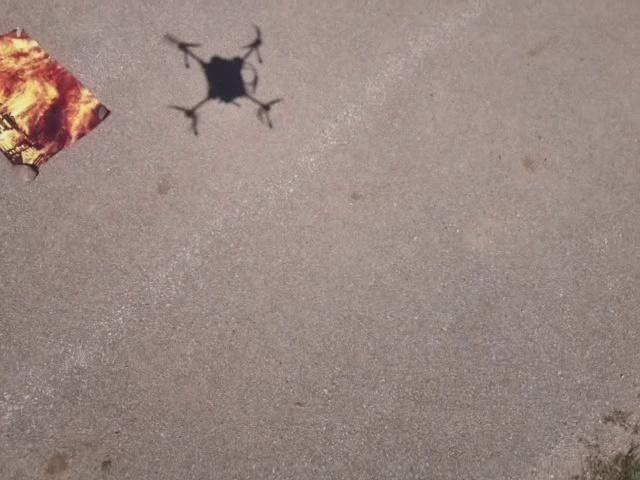fire-poster: (0, 25, 112, 182)
